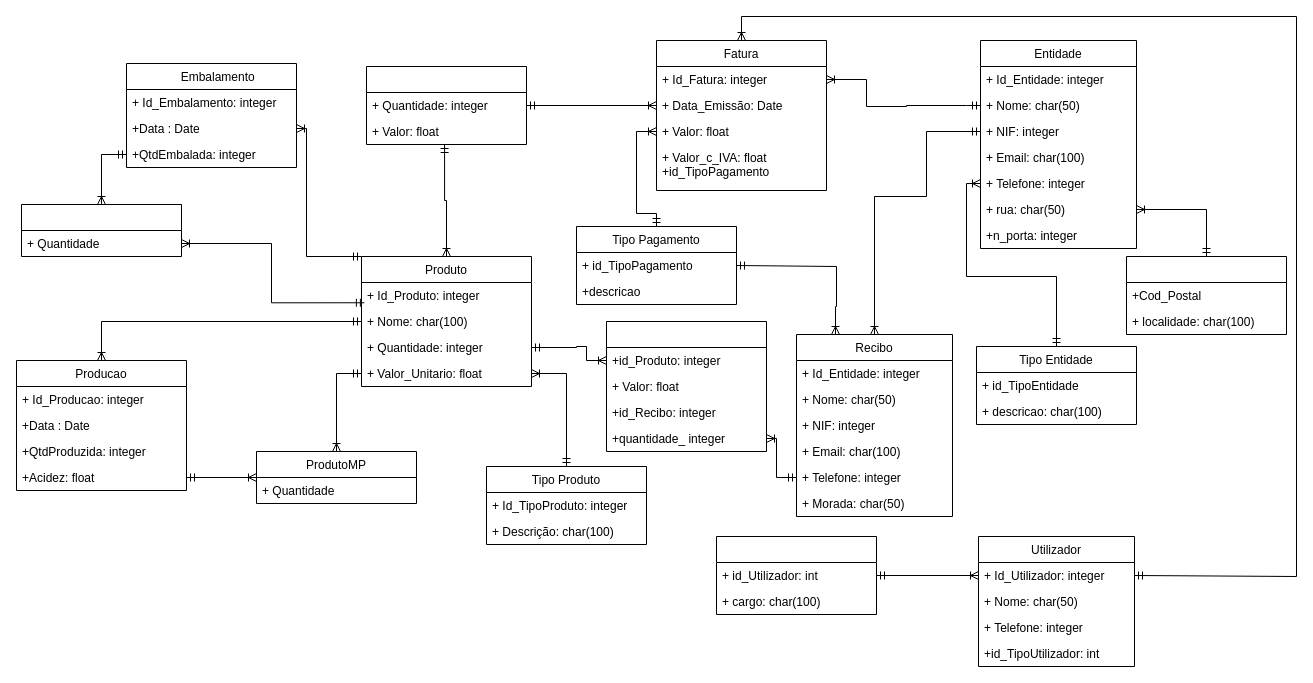
This 1313x683 diagram has some shape labels left out. The box of each missing label's shape, as (x1, y1, x2, y2) in pixels:
CodigoPostal: (1126, 256, 1286, 334)
Linha Fatura: (366, 66, 526, 144)
LinhaRecibo: (606, 320, 766, 452)
ProdutoEMB: (20, 204, 182, 256)
TipoUtilizador: (716, 536, 876, 614)
